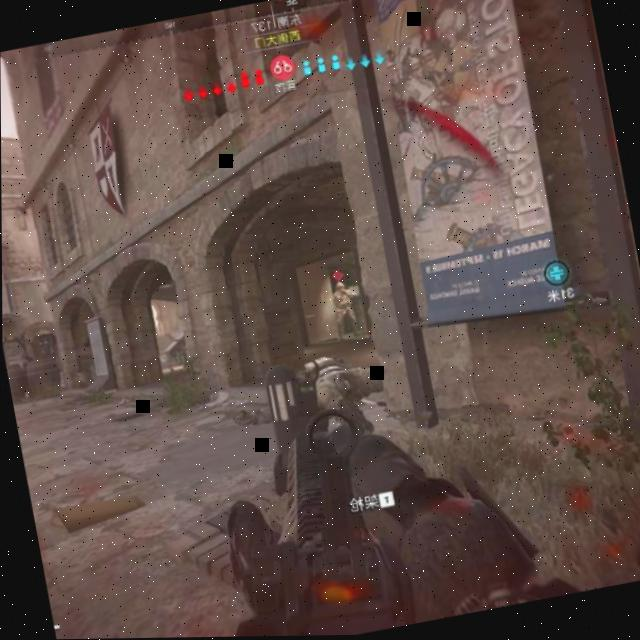MW2_body: (326, 268, 365, 341)
